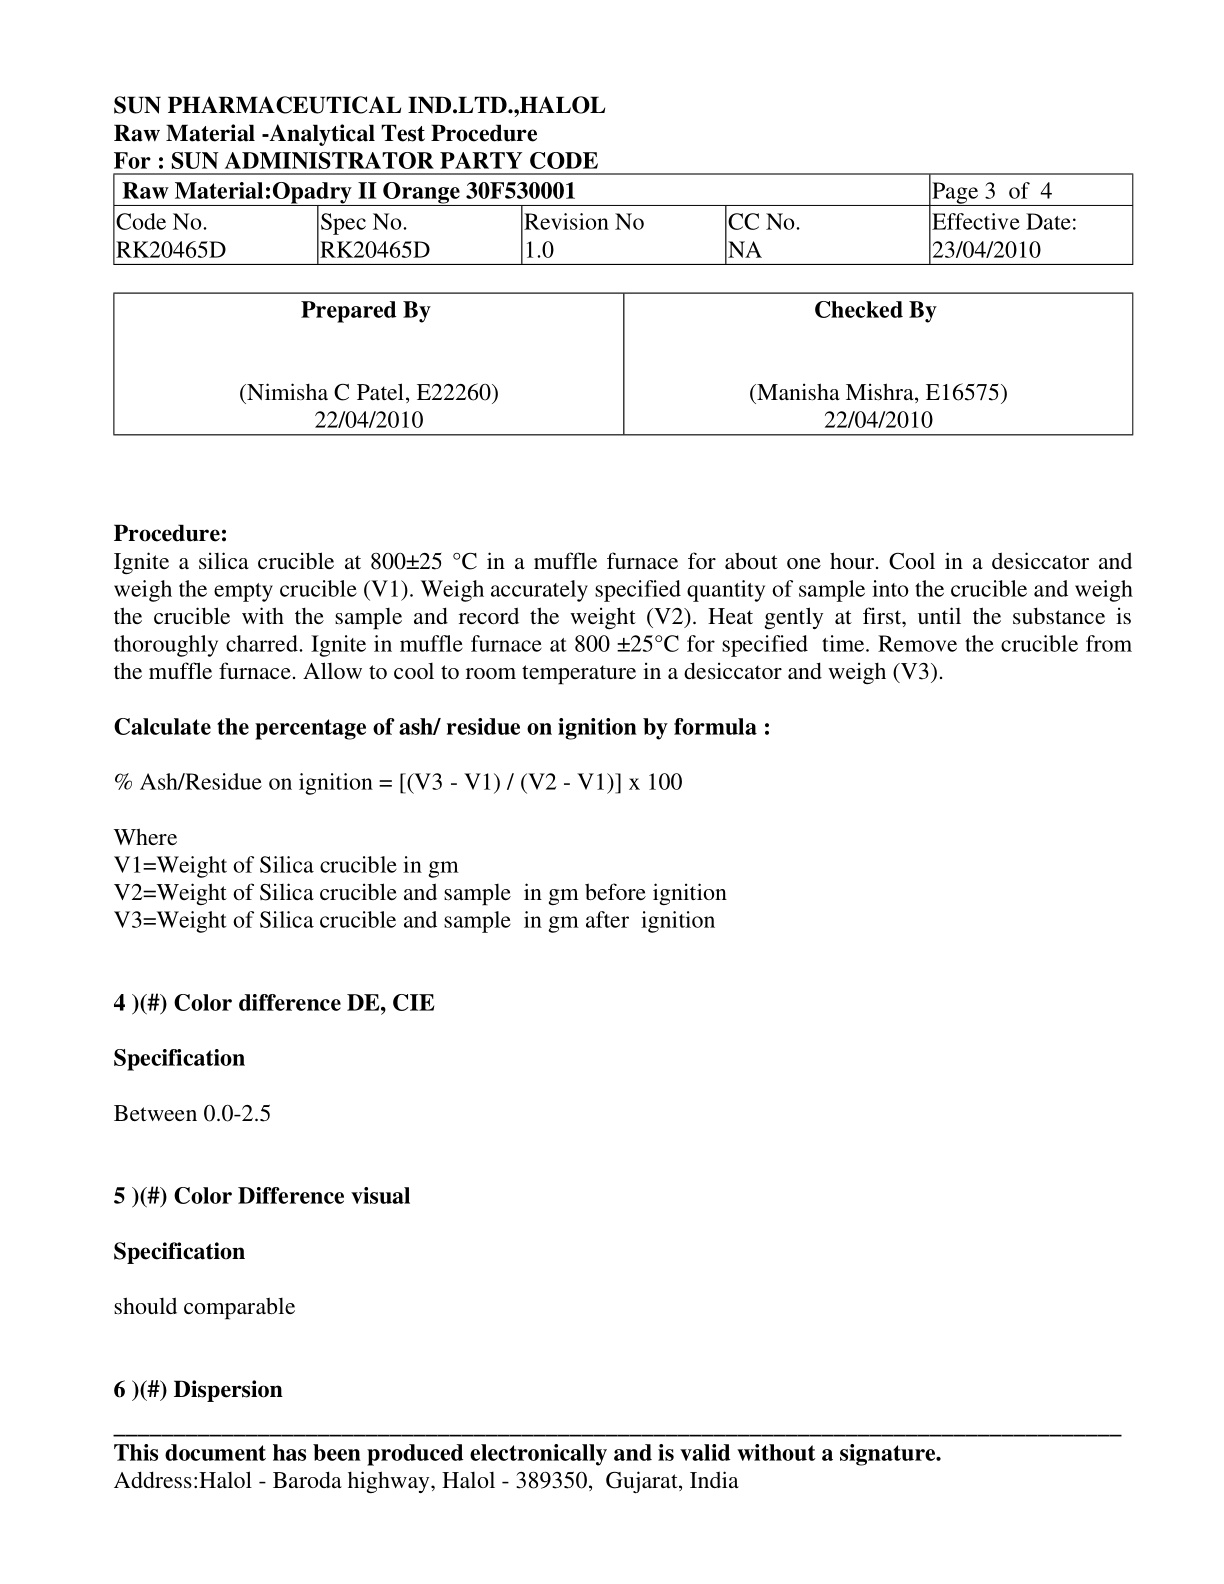full_lined: (111, 291, 1134, 436)
merged_cells: (111, 172, 1134, 265)
